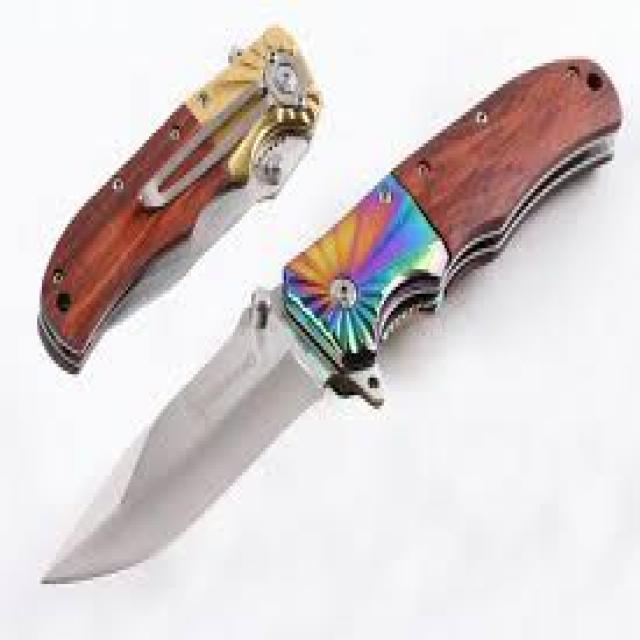knives: (31, 202, 446, 636)
